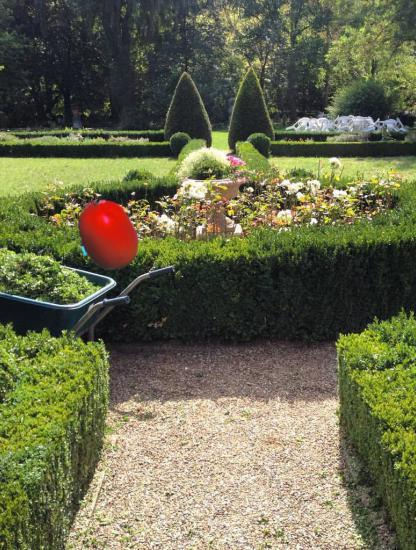Kaki: (70, 198, 145, 273)
